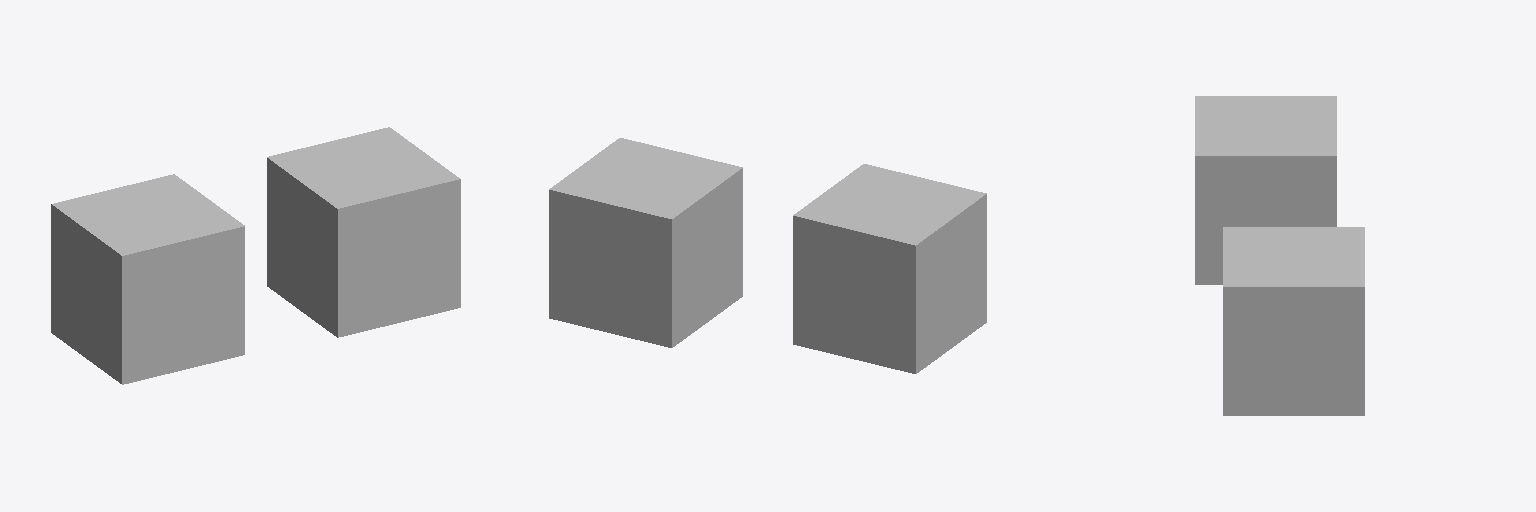
Rendered from twocubes.obj.
3 renders of one model, left to right at view 1: azimuth 30°, elevation 25°; view 2: azimuth 150°, elevation 25°; view 3: azimuth 270°, elevation 25°, orthographic.
Visible parts, largest first — view 1: Cube.001, Cube; view 2: Cube.001, Cube; view 3: Cube.001, Cube.
Boxes of the visible parts, x1=… form: Cube.001: x1=267, y1=127, x2=460, y2=337; Cube: x1=51, y1=174, x2=244, y2=384; Cube.001: x1=549, y1=138, x2=742, y2=347; Cube: x1=793, y1=164, x2=986, y2=373; Cube.001: x1=1223, y1=227, x2=1364, y2=415; Cube: x1=1195, y1=96, x2=1336, y2=284.
Size of the model in its own units: 5.73 by 2.3 by 2.4.